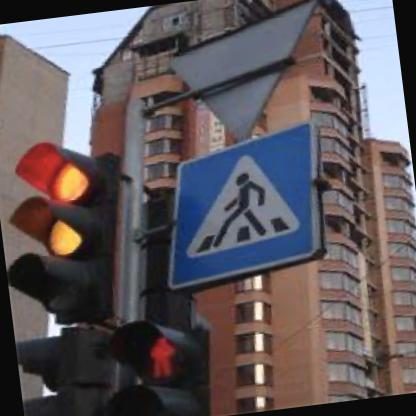crosswalk: (151, 114, 340, 290)
trafficlight: (0, 131, 141, 320), (107, 310, 220, 415), (15, 323, 112, 415)
